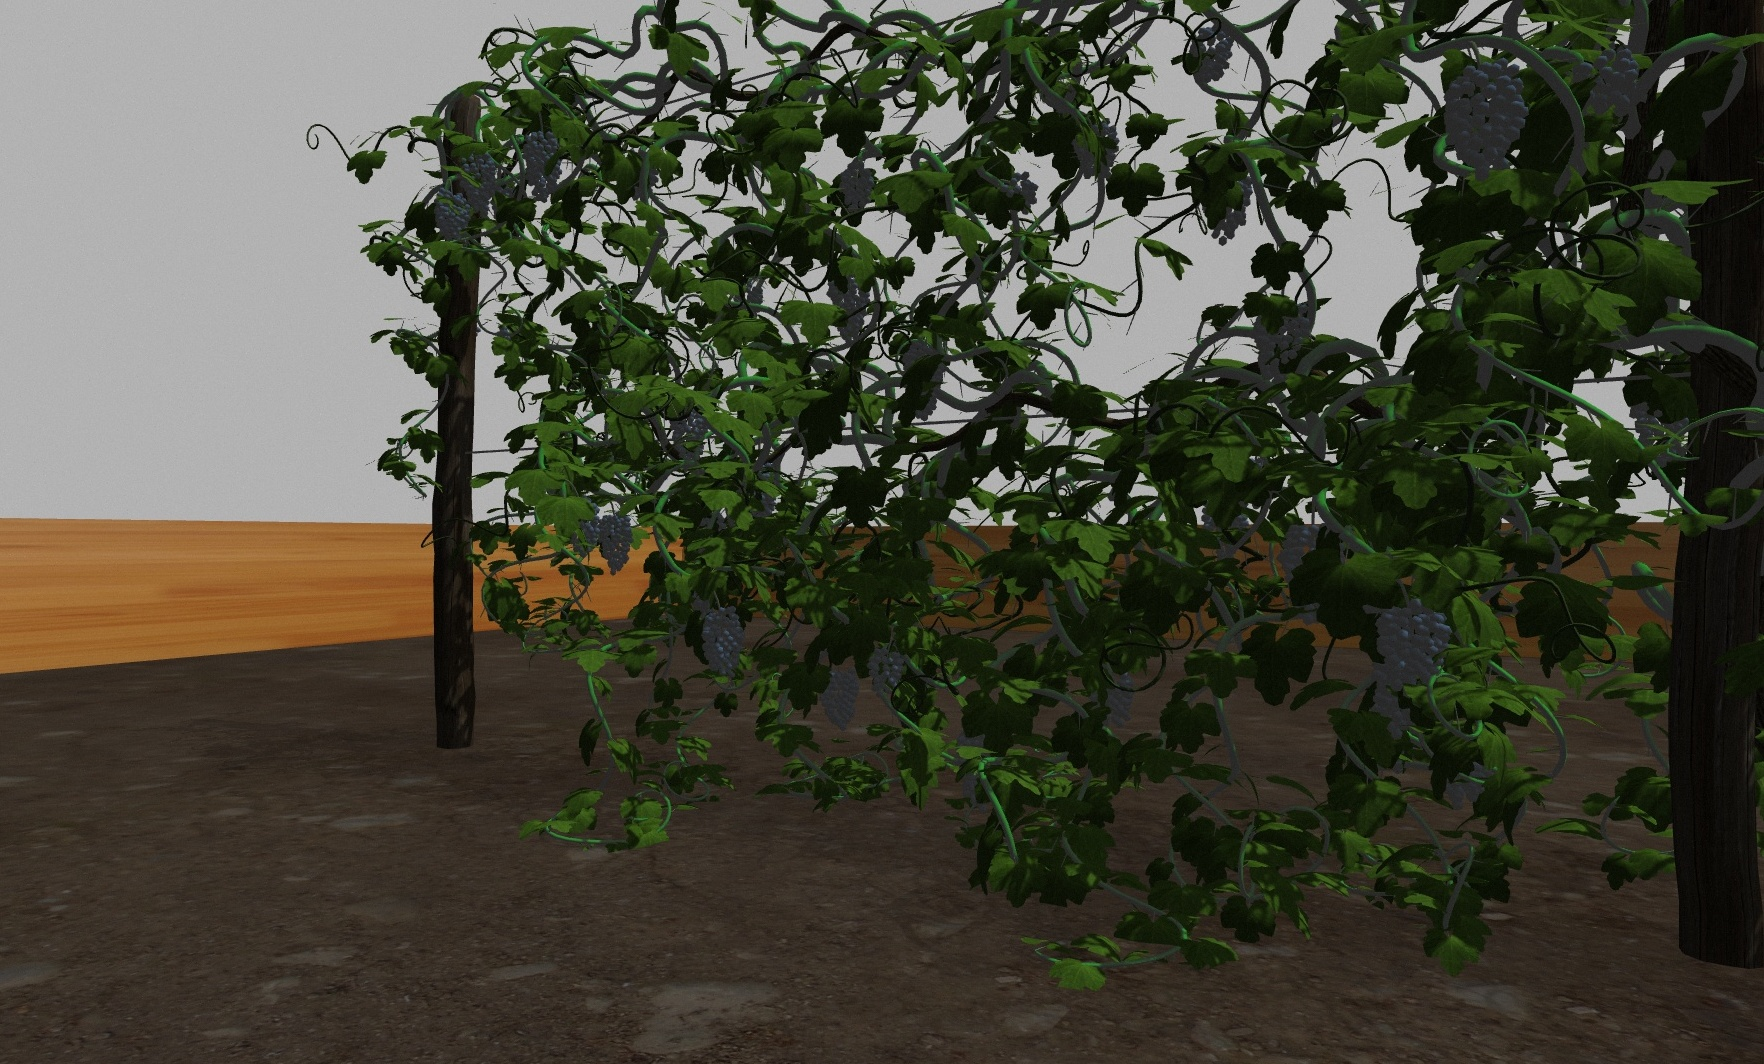grape: (1443, 57, 1525, 180), (1564, 44, 1646, 127), (1375, 601, 1448, 692), (1252, 303, 1307, 377), (520, 129, 562, 202), (701, 606, 742, 679), (1184, 24, 1234, 82), (828, 280, 871, 343), (1278, 524, 1320, 587), (822, 667, 858, 731), (460, 153, 496, 211), (837, 158, 872, 216), (598, 513, 631, 574), (670, 408, 707, 461), (1370, 695, 1409, 743), (1446, 764, 1491, 806), (1000, 170, 1039, 216), (867, 647, 903, 695), (1102, 676, 1135, 729), (433, 194, 470, 240), (570, 518, 600, 555)
